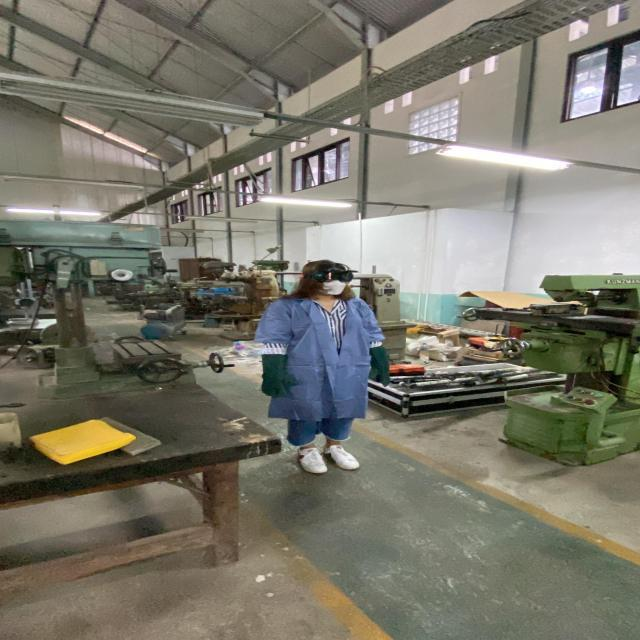glasses: (304, 266, 361, 283)
